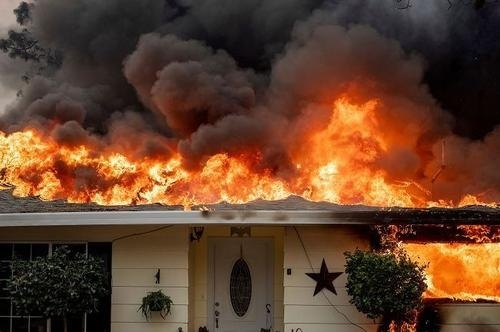fire: (0, 130, 434, 211)
